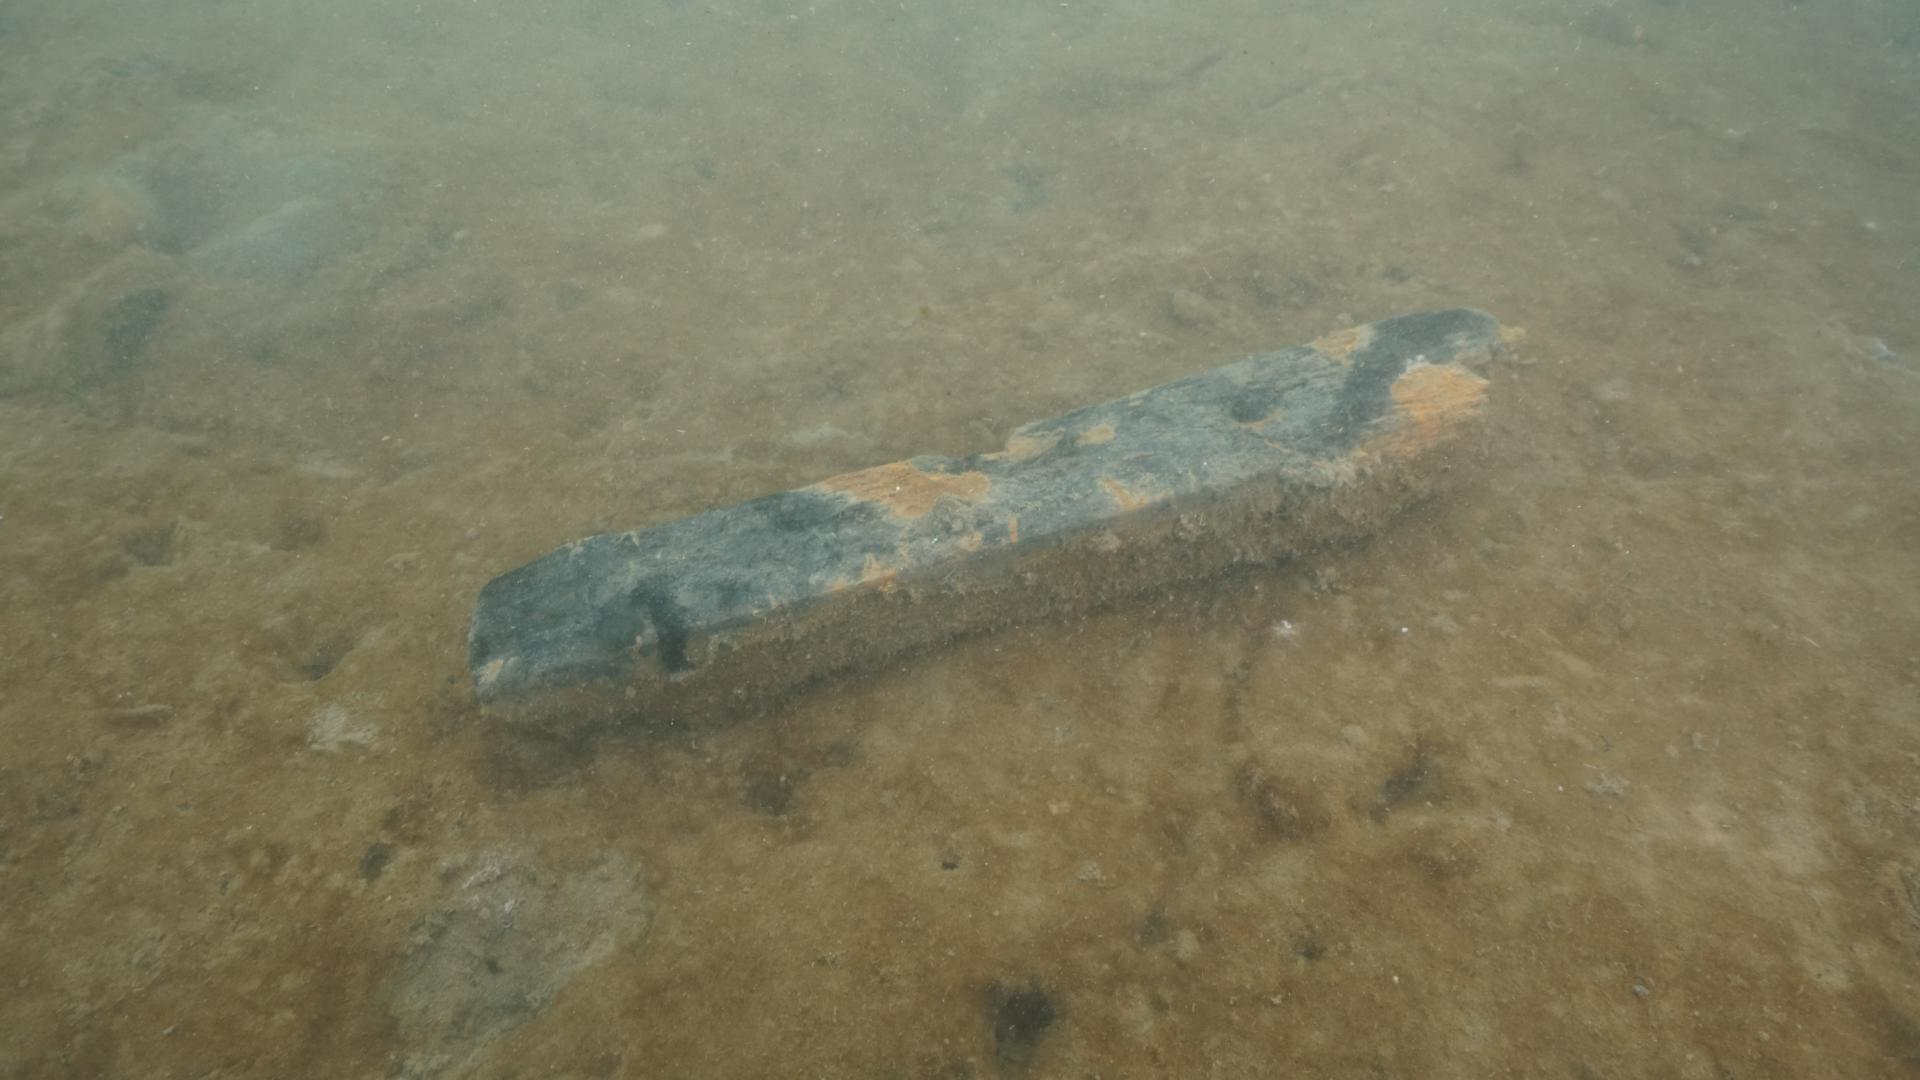wood: (460, 297, 1514, 777)
